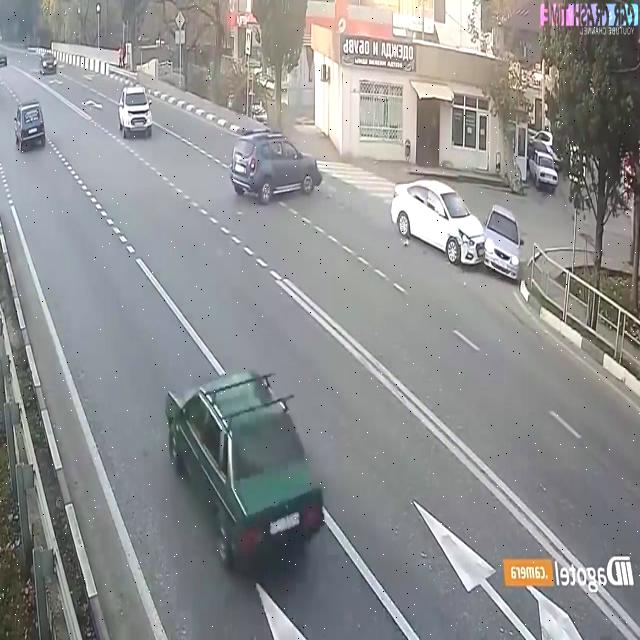accident: (383, 178, 529, 284)
